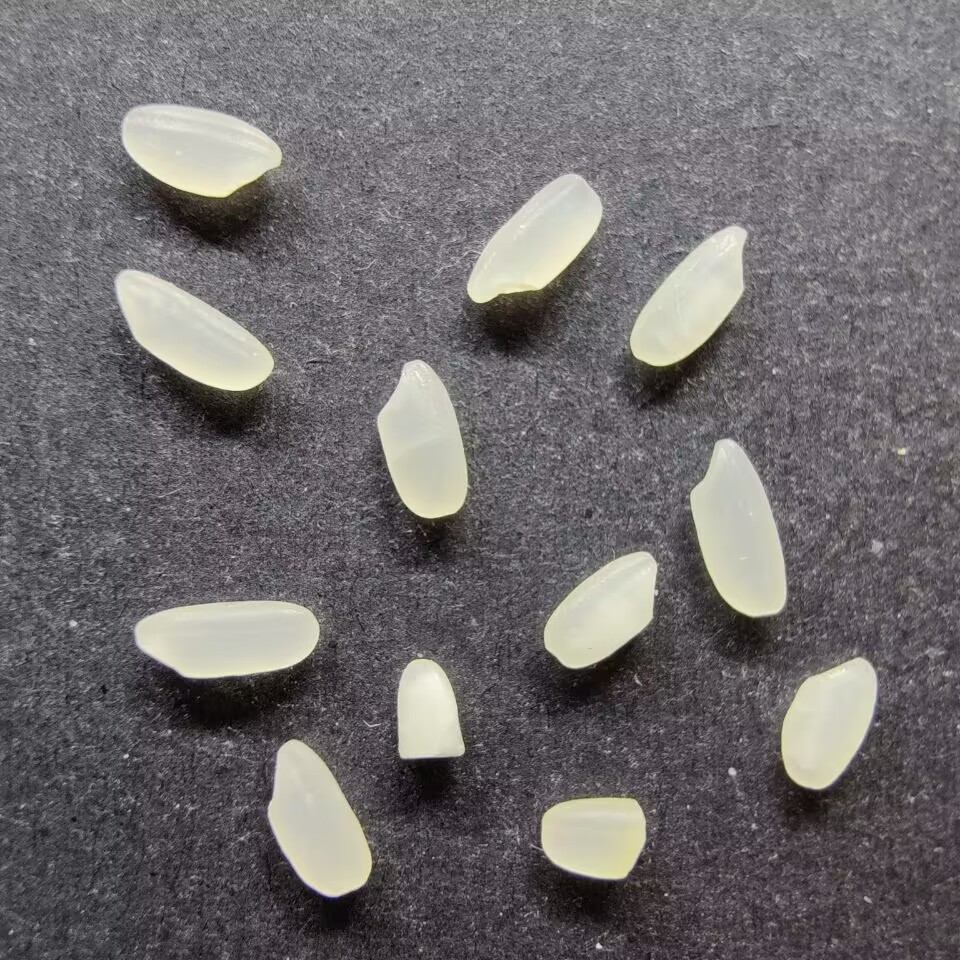broken: (538, 790, 647, 882), (394, 658, 468, 762)
rice: (110, 266, 276, 393), (465, 170, 605, 305), (687, 437, 789, 619), (627, 223, 751, 368), (265, 737, 374, 898), (373, 357, 469, 520), (119, 103, 283, 198), (131, 598, 321, 679), (541, 548, 658, 670), (778, 655, 879, 790)
